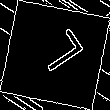L_SW: (26, 28, 84, 82)
